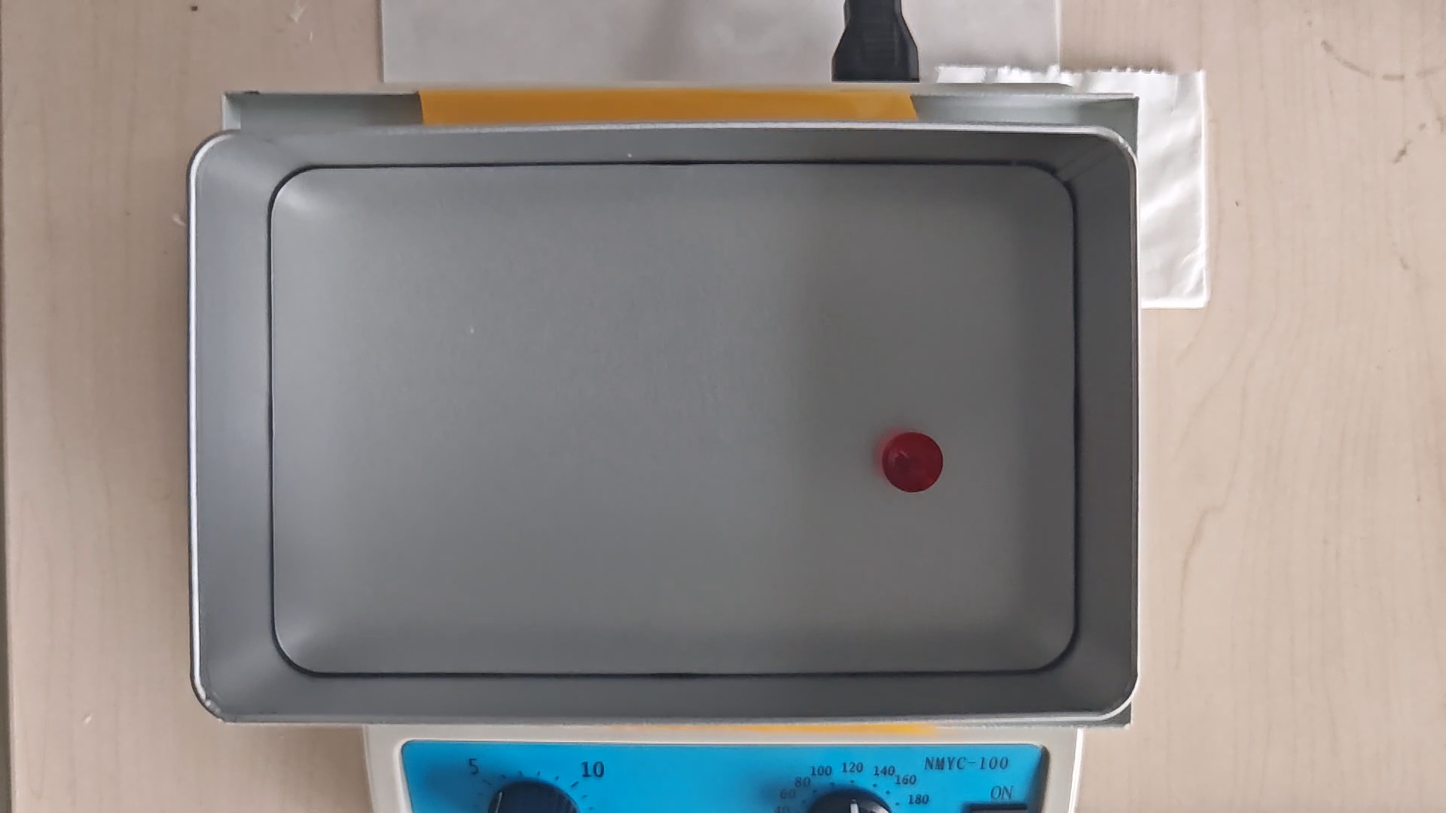ball: (883, 431, 941, 492)
container: (270, 165, 1077, 673)
